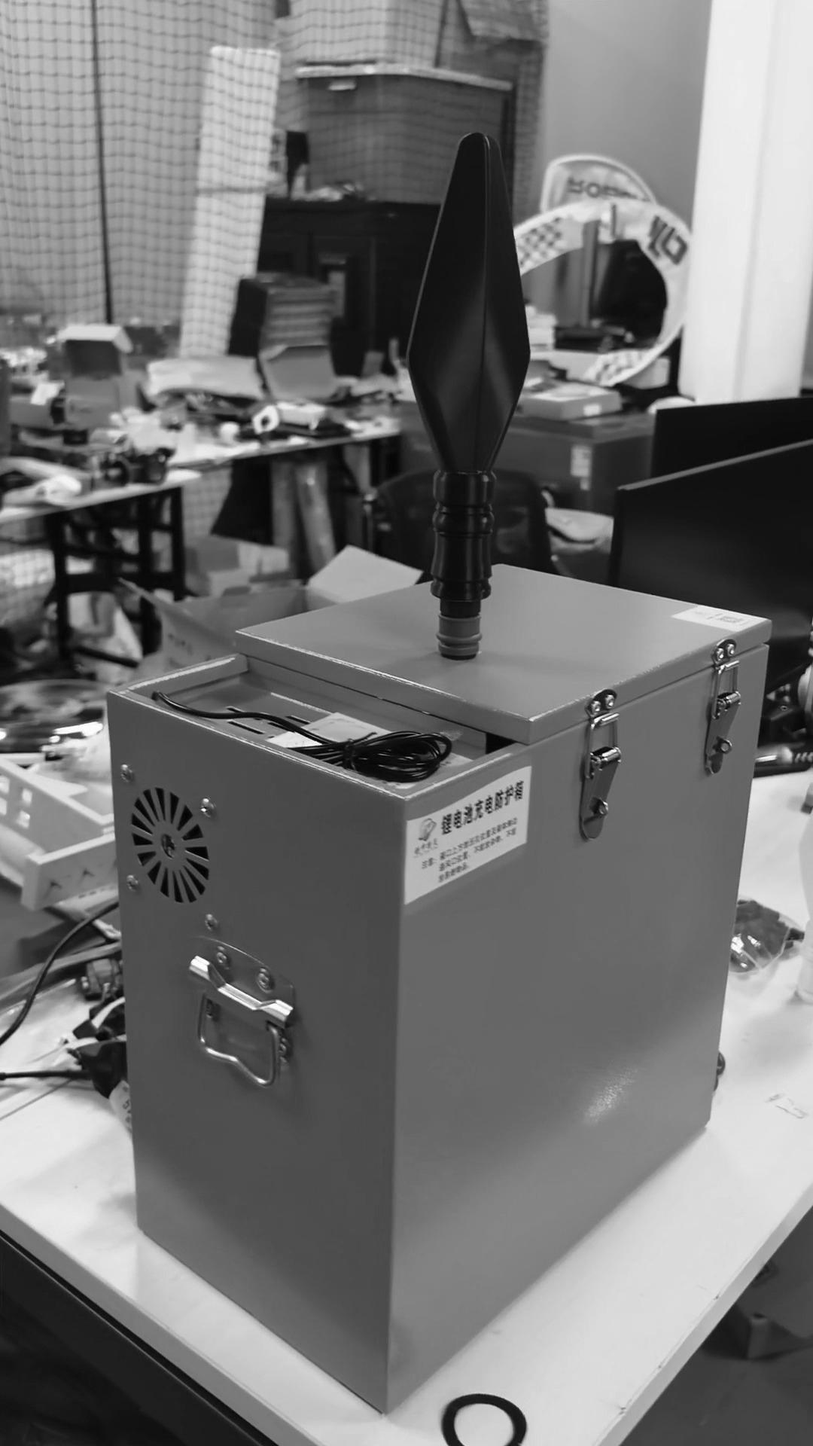base: (436, 612, 482, 660)
